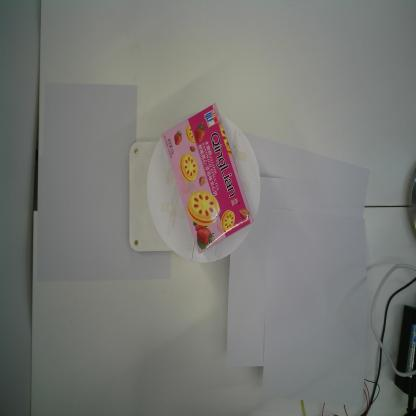Dessert: (159, 102, 255, 258)
